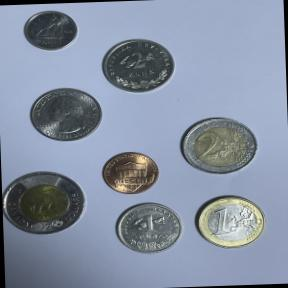1 Euro: (192, 191, 270, 252)
2 Euro: (176, 114, 262, 177)
Canda-10cent-: (21, 6, 82, 53)
Canda-2Dollar-: (1, 167, 89, 237)
Croatia-2Kune-: (98, 35, 178, 95)
US-1cent-: (100, 148, 162, 196)
US-25cent-: (24, 84, 109, 144)
